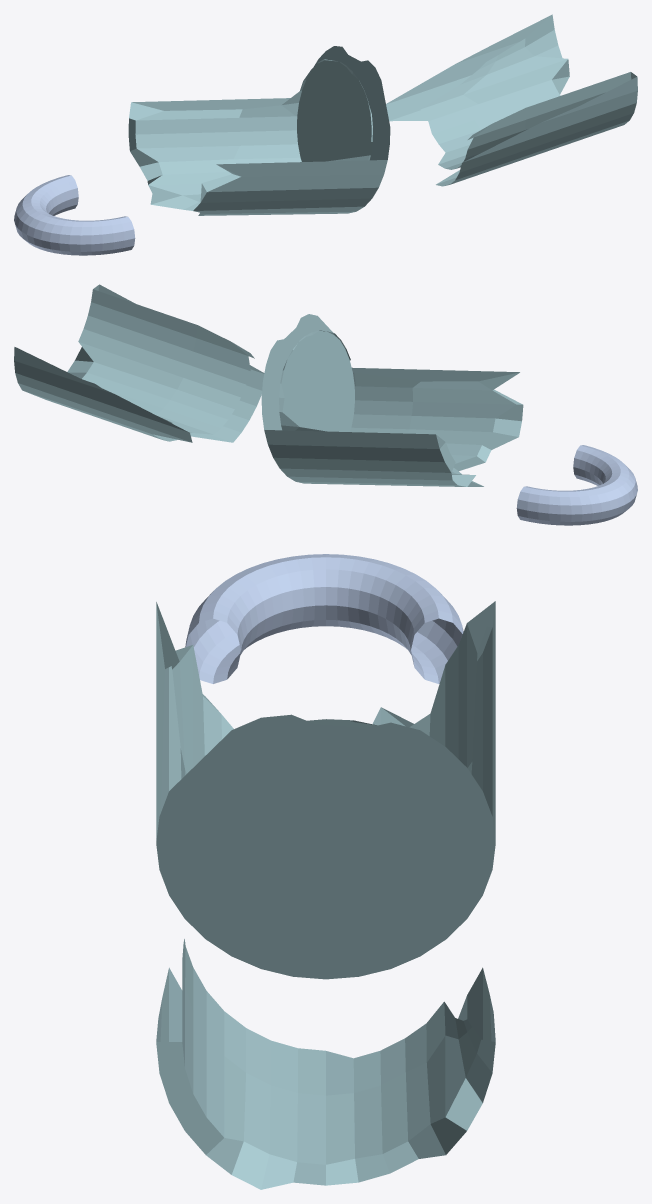
File: broken_mug.fbx
3 views of the same model, one above another, from view 1: azimuth 30°, elevation 25°; view 2: azimuth 150°, elevation 25°; view 3: azimuth 270°, elevation 25° (orthographic). The views are drawn at different scales.
Parts seen in each view (by area): view 1: Cylinder, Torus; view 2: Cylinder, Torus; view 3: Cylinder, Torus.
Boxes of the visible parts, left/top/right/bottom form: Cylinder: left=128, top=14, right=637, bottom=215; Torus: left=14, top=175, right=135, bottom=255; Cylinder: left=14, top=284, right=523, bottom=486; Torus: left=516, top=445, right=637, bottom=525; Cylinder: left=156, top=601, right=495, bottom=1189; Torus: left=185, top=554, right=463, bottom=683.
Bounding box in the file's own units: 789 × 190 × 200.
